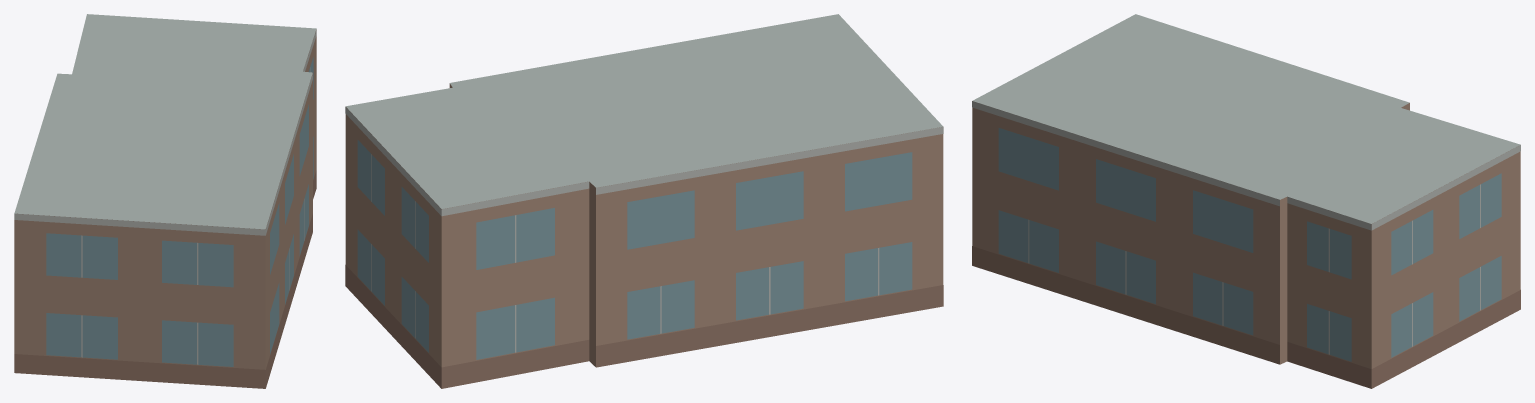
The model's file is survey-upis-32848727.glb.
The picture shows the model from 3 angles, left to right: view 1: azimuth 30°, elevation 25°; view 2: azimuth 150°, elevation 25°; view 3: azimuth 270°, elevation 25°; orthographic projection. The views are drawn at different scales.
Visible parts, largest first — view 1: survey-upis-32848727.tmp; view 2: survey-upis-32848727.tmp; view 3: survey-upis-32848727.tmp.
Boxes of the visible parts, x1,y1,x2,y2 form: survey-upis-32848727.tmp: (14, 14, 316, 388); survey-upis-32848727.tmp: (345, 14, 943, 388); survey-upis-32848727.tmp: (972, 14, 1520, 388).
Bounding box in the file's own units: 16.68 × 6.1 × 18.41.
